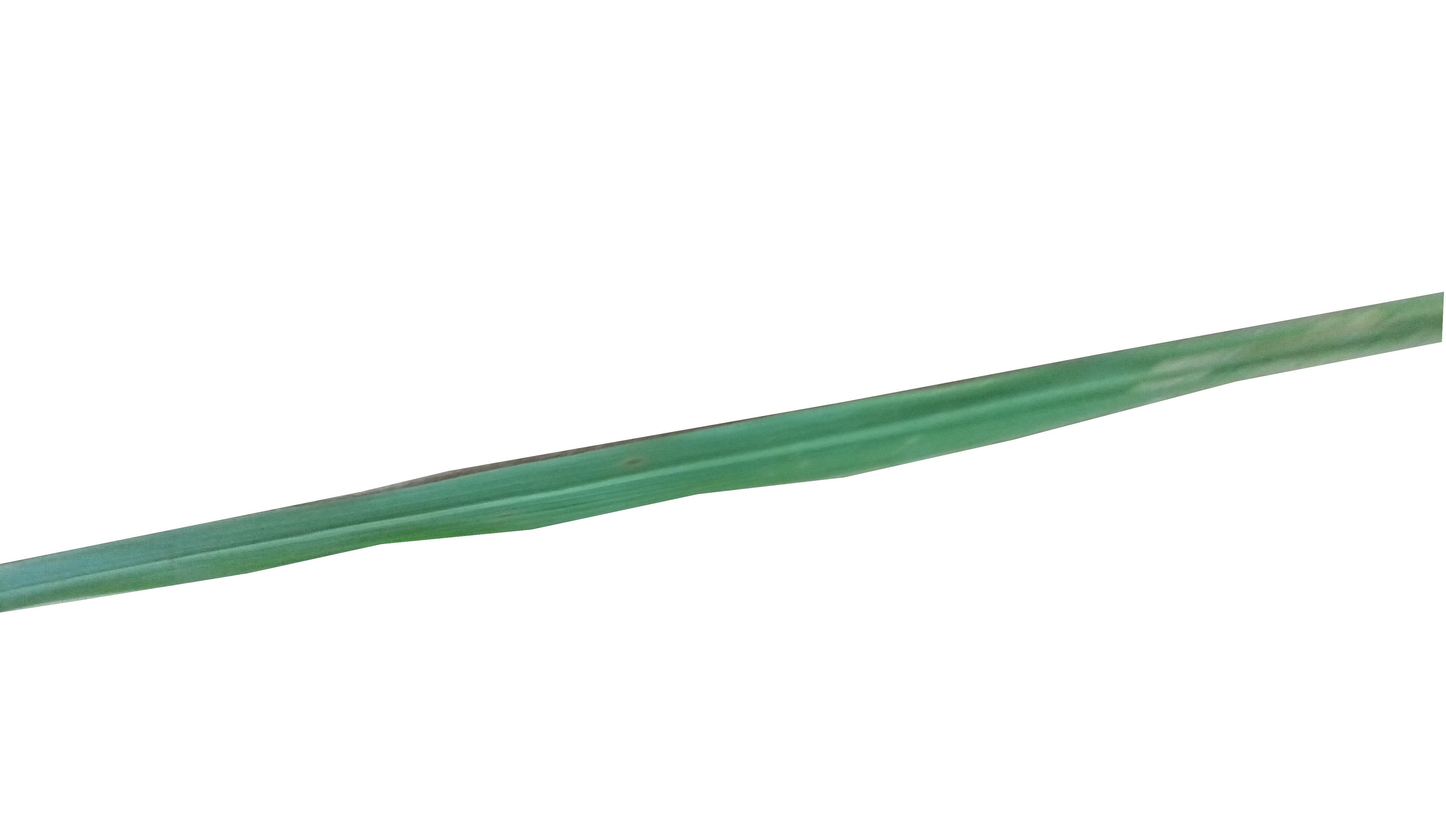Brown spot: (615, 450, 653, 477)
